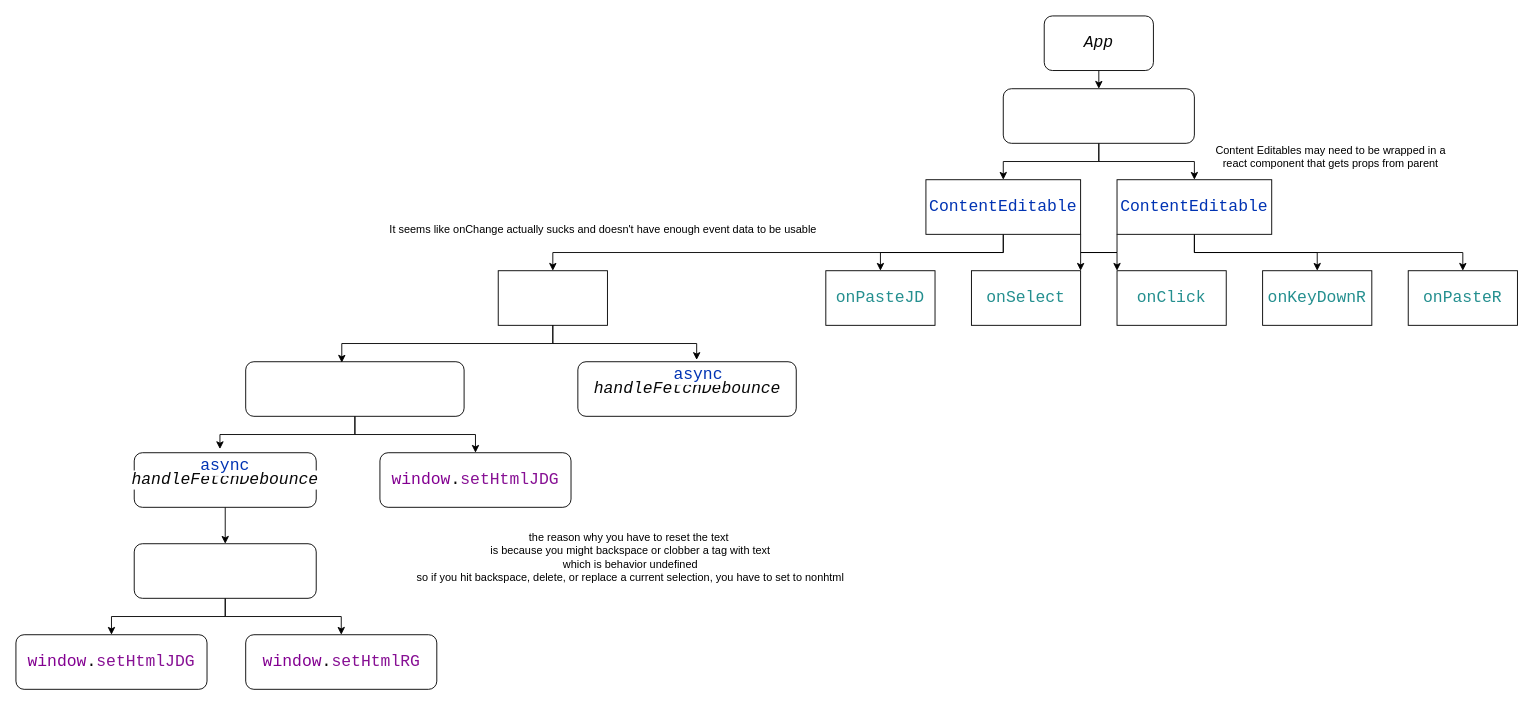
The diagram is 1533 pixels wide and 705 high, and some of its shapes have lost their labels. Here are the shapes that lost their labels. From the top down, the centre of each, then its label:
At [1098,115]: "EditableHighlighter".
At [552,297]: "onKeyDownJD".
At [354,388]: "handleEnterPressJD".
At [224,570]: "setHighlightPhrases".
